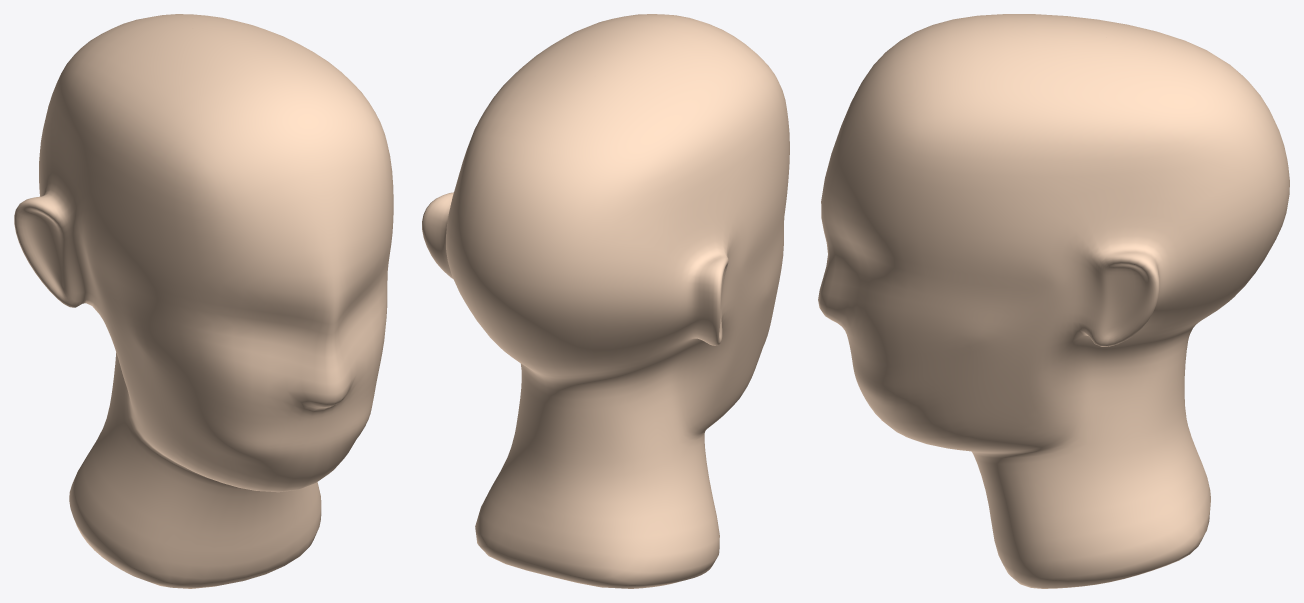
File: head.obj
The picture shows the model from 3 angles, left to right: view 1: azimuth 30°, elevation 25°; view 2: azimuth 150°, elevation 25°; view 3: azimuth 270°, elevation 25°; orthographic projection. The views are drawn at different scales.
Visible parts, largest first — view 1: Head; view 2: Head; view 3: Head.
Part boxes in pixels (x1,y1,x2,y2): Head: (14,14,393,588); Head: (422,14,789,588); Head: (818,14,1289,588).
Bounding box in the file's own units: 0.5716 × 0.9354 × 0.7558.
